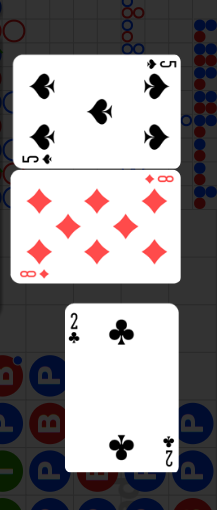2C: (161, 433, 175, 468)
5S: (145, 58, 177, 71)
8D: (19, 268, 51, 280)
